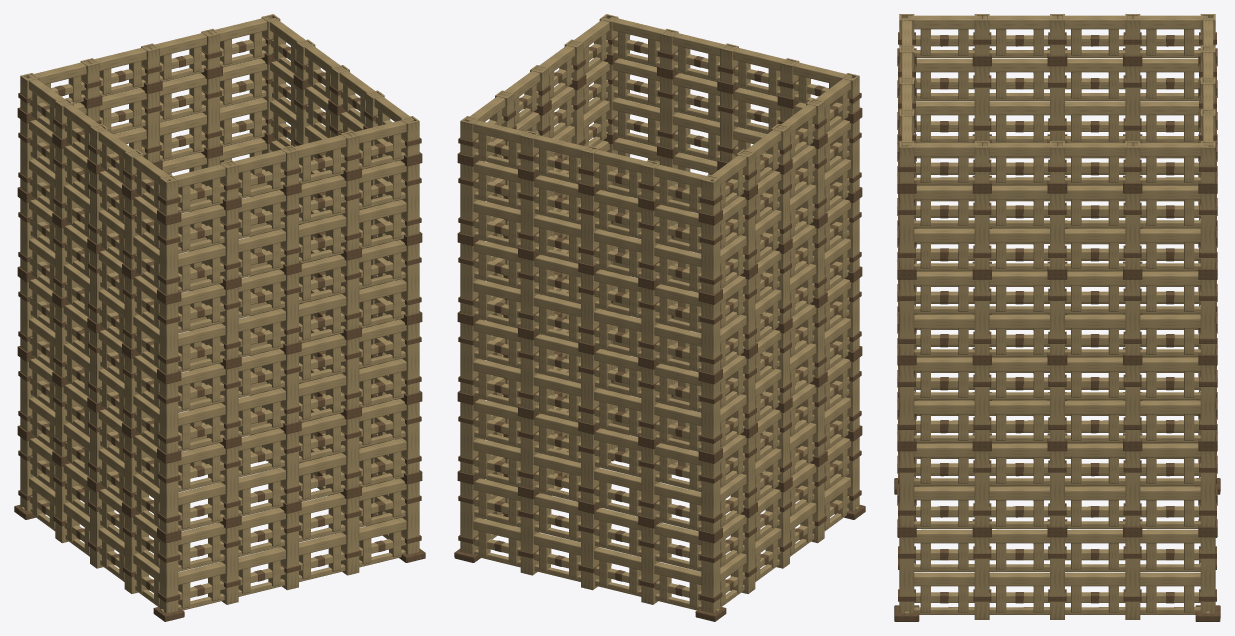
The picture shows the model from 3 angles, left to right: view 1: azimuth 30°, elevation 25°; view 2: azimuth 150°, elevation 25°; view 3: azimuth 270°, elevation 25°; orthographic projection. The views are drawn at different scales.
Parts seen in each view (by area): view 1: Tier 0 side 0 post 0, Tier 3 side 0 post 0, Tier 1 side 0 post 0, Tier 2 side 0 post 0, Tier 4 side 0 post 0, Tier 0 side 0 post 3, Tier 0 side 0 post 1, Tier 0 side 0 post 2, Tier 0 side 1 post 0, Tier 4 side 0 post 3, Tier 2 side 0 post 3, Tier 3 side 0 post 3 (+91 smaller); view 2: Tier 0 side 3 post 0, Tier 3 side 3 post 0, Tier 2 side 3 post 0, Tier 4 side 3 post 0, Tier 1 side 3 post 0, Tier 0 side 2 post 1, Tier 0 side 2 post 3, Tier 0 side 2 post 2, Tier 0 side 2 post 0, Tier 4 side 2 post 1, Tier 2 side 2 post 1, Tier 3 side 2 post 1 (+92 smaller); view 3: Tier 0 side 1 post 1, Tier 0 side 1 post 3, Tier 0 side 1 post 2, Tier 0 side 1 post 0, Tier 0 side 2 post 0, Tier 1 side 1 post 0, Tier 1 side 1 post 1, Tier 1 side 1 post 3, Tier 1 side 2 post 0, Tier 4 side 3 post 1, Tier 4 side 3 post 3, Tier 2 side 1 post 0 (+80 smaller).
Boxes of the visible parts, left/top/right/bottom form: Tier 0 side 0 post 0: left=159, top=539, right=178, bottom=613; Tier 3 side 0 post 0: left=159, top=301, right=178, bottom=374; Tier 1 side 0 post 0: left=159, top=460, right=178, bottom=533; Tier 2 side 0 post 0: left=159, top=380, right=178, bottom=453; Tier 4 side 0 post 0: left=159, top=221, right=178, bottom=294; Tier 0 side 0 post 3: left=341, top=496, right=359, bottom=575; Tier 0 side 0 post 1: left=220, top=525, right=238, bottom=604; Tier 0 side 0 post 2: left=280, top=511, right=298, bottom=590; Tier 0 side 1 post 0: left=401, top=481, right=419, bottom=554; Tier 4 side 0 post 3: left=340, top=178, right=359, bottom=250; Tier 2 side 0 post 3: left=341, top=337, right=359, bottom=409; Tier 3 side 0 post 3: left=341, top=258, right=359, bottom=330; Tier 0 side 3 post 0: left=701, top=539, right=720, bottom=613; Tier 3 side 3 post 0: left=701, top=301, right=720, bottom=374; Tier 2 side 3 post 0: left=701, top=380, right=720, bottom=453; Tier 4 side 3 post 0: left=701, top=221, right=720, bottom=294; Tier 1 side 3 post 0: left=701, top=460, right=720, bottom=533; Tier 0 side 2 post 1: left=520, top=496, right=539, bottom=575; Tier 0 side 2 post 3: left=641, top=525, right=659, bottom=604; Tier 0 side 2 post 2: left=581, top=511, right=599, bottom=590; Tier 0 side 2 post 0: left=460, top=481, right=478, bottom=554; Tier 4 side 2 post 1: left=520, top=178, right=539, bottom=250; Tier 2 side 2 post 1: left=520, top=337, right=539, bottom=409; Tier 3 side 2 post 1: left=520, top=258, right=539, bottom=330; Tier 0 side 1 post 1: left=974, top=537, right=989, bottom=619; Tier 0 side 1 post 3: left=1125, top=537, right=1140, bottom=619; Tier 0 side 1 post 2: left=1050, top=537, right=1064, bottom=619; Tier 0 side 1 post 0: left=899, top=537, right=914, bottom=613; Tier 0 side 2 post 0: left=1200, top=537, right=1215, bottom=613; Tier 1 side 1 post 0: left=899, top=451, right=914, bottom=526; Tier 1 side 1 post 1: left=974, top=451, right=989, bottom=526; Tier 1 side 1 post 3: left=1125, top=451, right=1140, bottom=526; Tier 1 side 2 post 0: left=1200, top=451, right=1215, bottom=526; Tier 4 side 3 post 1: left=1125, top=66, right=1140, bottom=141; Tier 4 side 3 post 3: left=974, top=66, right=989, bottom=141; Tier 2 side 1 post 0: left=899, top=365, right=914, bottom=440.
Bounding box in the file's own units: 1.95 × 3.12 × 1.95.
Materials: 2 (2 with a texture image).
